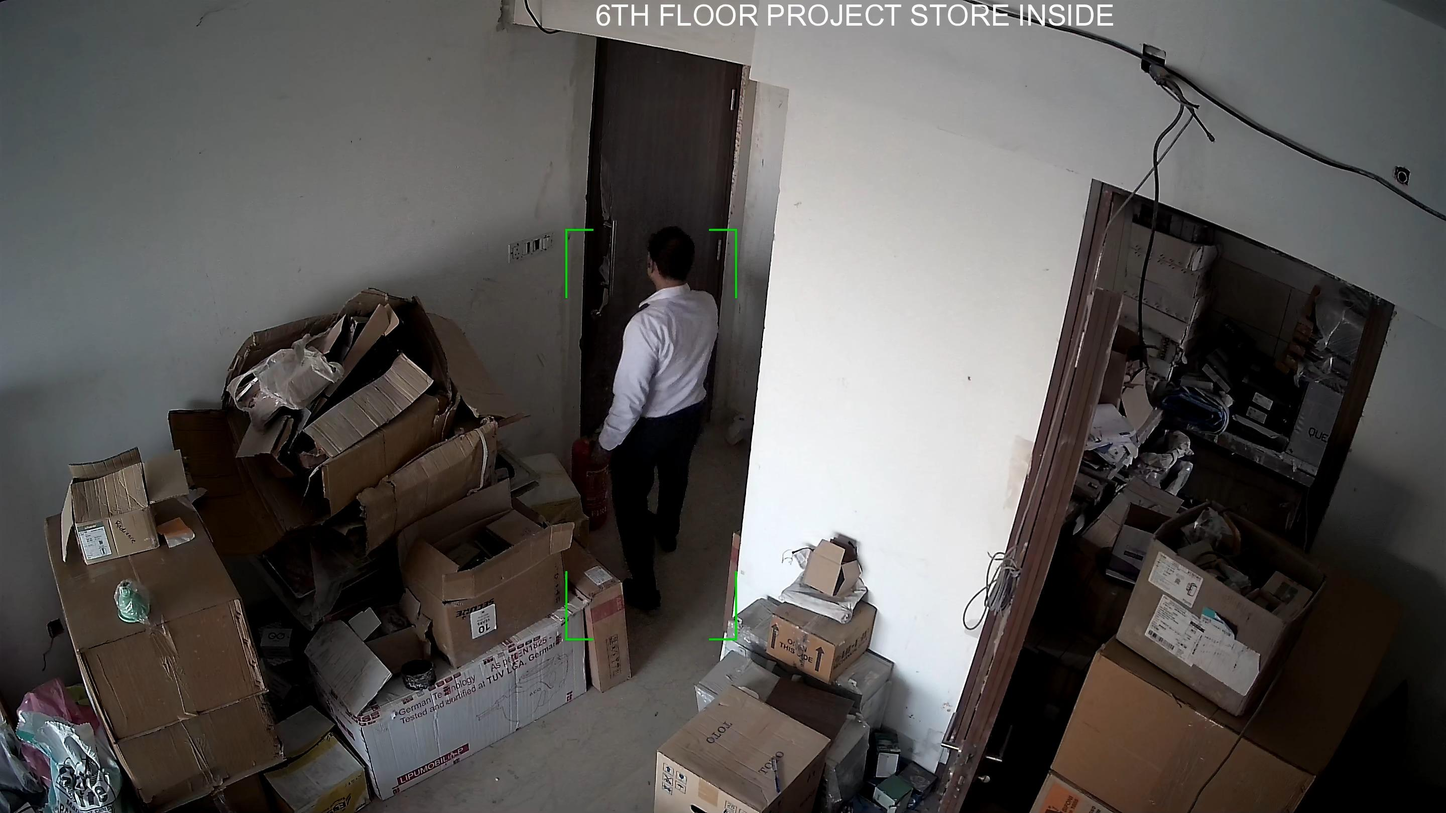Door-Close: (556, 36, 757, 490)
